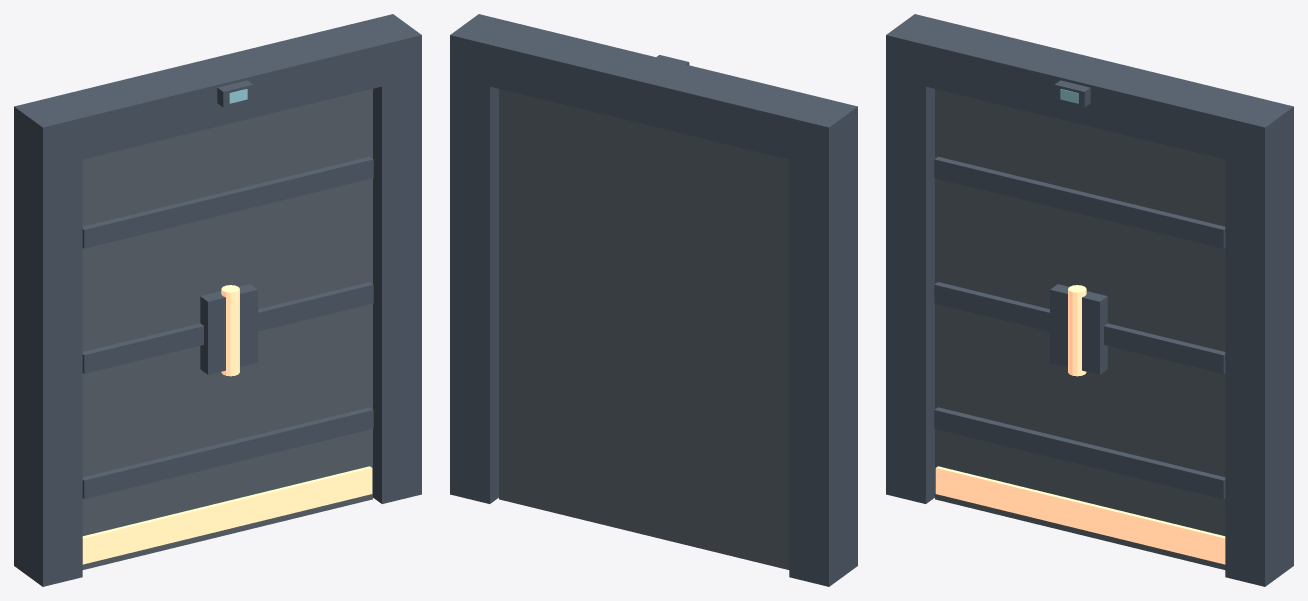
File: Lab_Door_Security.fbx
3 renders of one model, left to right at view 1: azimuth 30°, elevation 25°; view 2: azimuth 150°, elevation 25°; view 3: azimuth 330°, elevation 25°, orthographic.
Parts seen in each view (by area): view 1: Lab_Door_Security; view 2: Lab_Door_Security; view 3: Lab_Door_Security.
Part boxes in pixels (x1,y1,x2,y2): Lab_Door_Security: [14, 14, 421, 586]; Lab_Door_Security: [450, 14, 857, 586]; Lab_Door_Security: [886, 14, 1293, 586].
Size of the model in its own units: 3.8 by 4.4 by 0.61.
